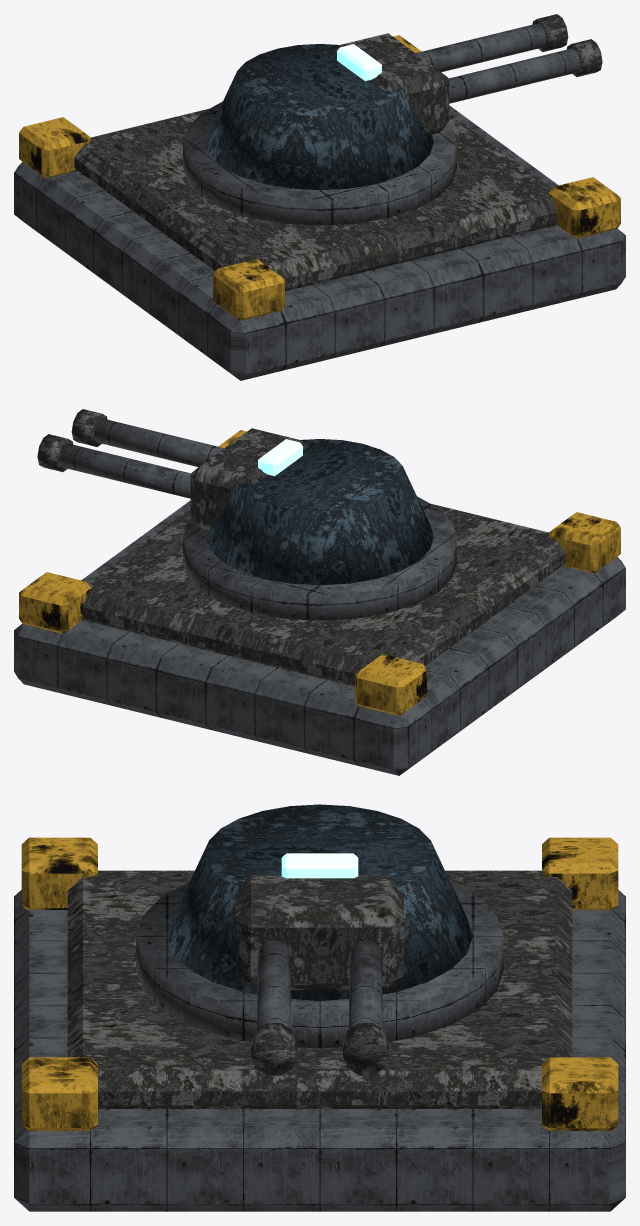
The model's file is tower.gltf.
3 views of the same model, one above another, from view 1: azimuth 30°, elevation 25°; view 2: azimuth 150°, elevation 25°; view 3: azimuth 270°, elevation 25° (orthographic). The views are drawn at different scales.
Visible parts, largest first — view 1: base, base_top, dome, ring, mantlet, corner, barrel-1, corner.001, corner.002, barrel1, sensor, muzzle-1 (+1 smaller); view 2: base, base_top, dome, ring, mantlet, corner.002, barrel1, corner.003, corner, barrel-1, sensor, muzzle1 (+1 smaller); view 3: base, base_top, dome, ring, mantlet, corner.001, corner.003, corner, corner.002, barrel1, barrel-1, muzzle1 (+2 smaller).
Part boxes in pixels (bbox=[...]): base: bbox=[14, 105, 625, 380]; base_top: bbox=[74, 109, 557, 291]; dome: bbox=[206, 44, 433, 190]; ring: bbox=[183, 101, 456, 225]; mantlet: bbox=[334, 33, 449, 134]; corner: bbox=[213, 259, 284, 320]; barrel-1: bbox=[449, 48, 580, 103]; corner.001: bbox=[549, 177, 620, 238]; corner.002: bbox=[19, 117, 90, 178]; barrel1: bbox=[416, 23, 546, 72]; sensor: bbox=[337, 44, 381, 81]; muzzle-1: bbox=[566, 39, 602, 76]; base: bbox=[14, 500, 625, 775]; base_top: bbox=[82, 504, 565, 686]; dome: bbox=[206, 439, 433, 585]; ring: bbox=[183, 496, 456, 620]; mantlet: bbox=[190, 428, 305, 529]; corner.002: bbox=[355, 654, 426, 715]; barrel1: bbox=[59, 443, 190, 498]; corner.003: bbox=[19, 572, 90, 633]; corner: bbox=[549, 512, 620, 573]; barrel-1: bbox=[93, 418, 223, 467]; sensor: bbox=[258, 439, 302, 476]; muzzle1: bbox=[37, 434, 73, 471]; base: bbox=[14, 890, 625, 1211]; base_top: bbox=[67, 870, 572, 1108]; dome: bbox=[167, 804, 472, 1000]; ring: bbox=[136, 881, 503, 1048]; mantlet: bbox=[236, 875, 403, 990]; corner.001: bbox=[21, 1057, 97, 1130]; corner.003: bbox=[542, 1057, 618, 1130]; corner: bbox=[21, 837, 97, 910]; corner.002: bbox=[542, 837, 618, 910]; barrel1: bbox=[349, 941, 382, 1028]; barrel-1: bbox=[257, 941, 290, 1028]; muzzle1: bbox=[343, 1023, 388, 1075].
Size of the model in its own units: 92 by 37 by 80.
Materials: 5 (4 with a texture image).
